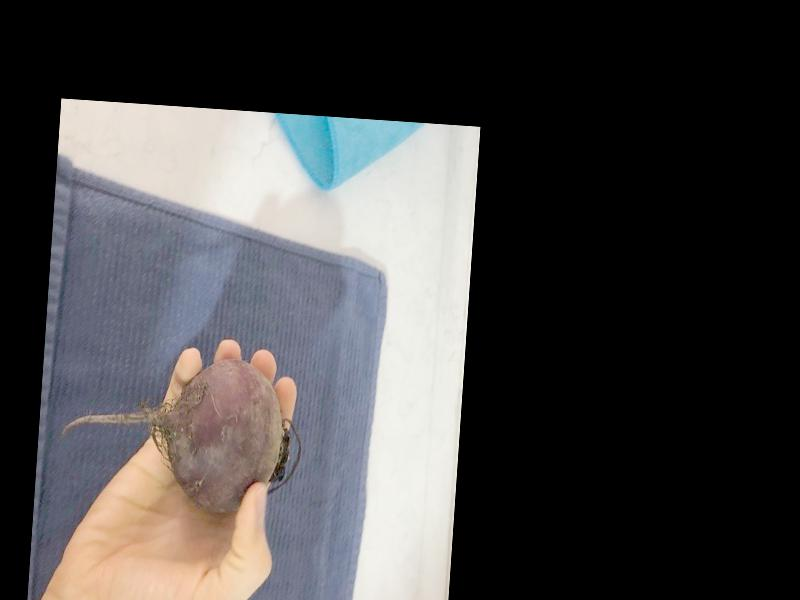Beet: (56, 347, 306, 517)
